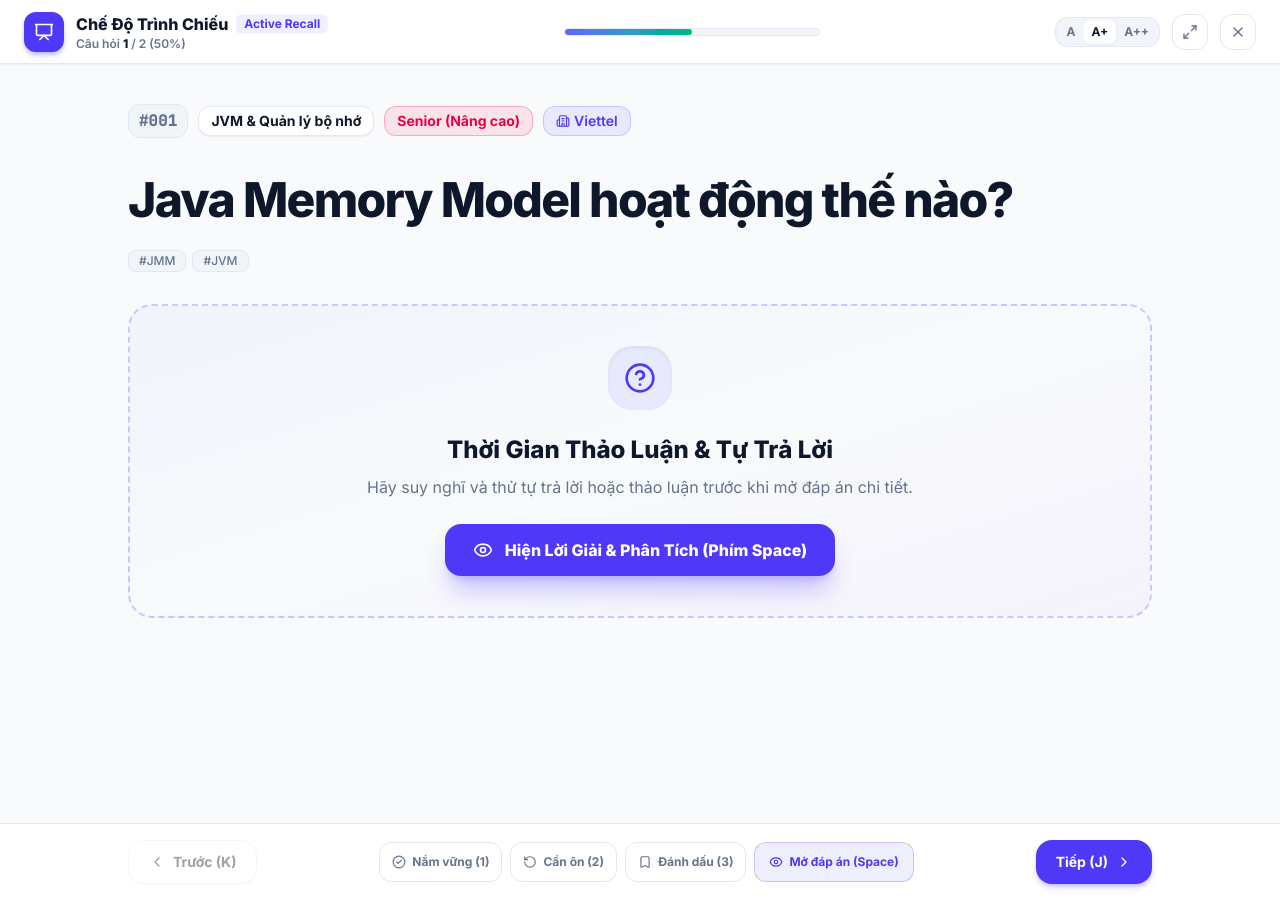
Scenario: InterviewPresentationModal Component › navigates between questions using Next and Prev buttons
expect the heading "Java Memory Model hoạt động thế nào?" is shown: met, box [128,170,1152,230]
Step 1. Click the button "Tiếp (J)" → (1094, 862), box [1036,840,1152,884]
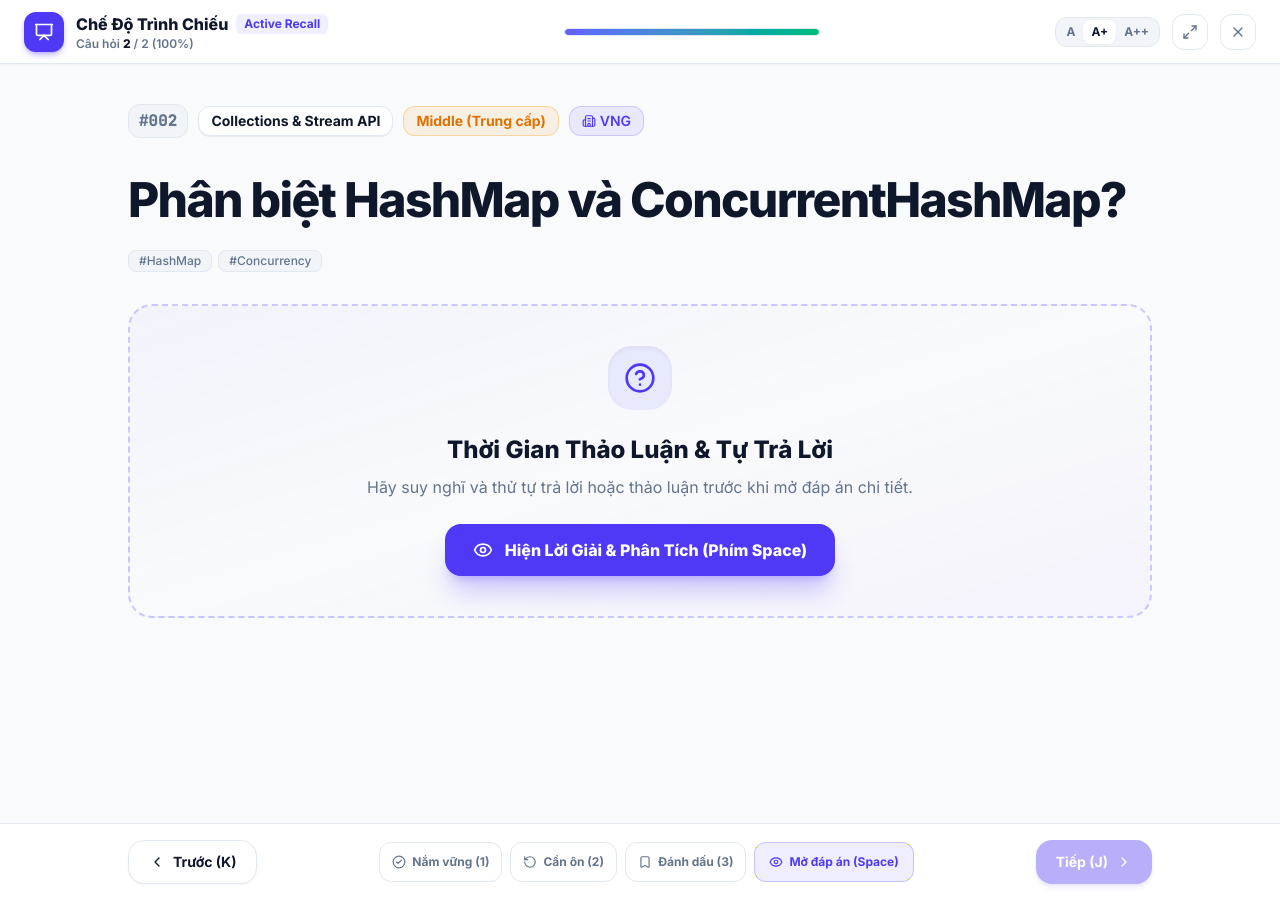
expect the heading "Phân biệt HashMap và ConcurrentHashMap?" is shown: met, box [128,170,1152,230]
